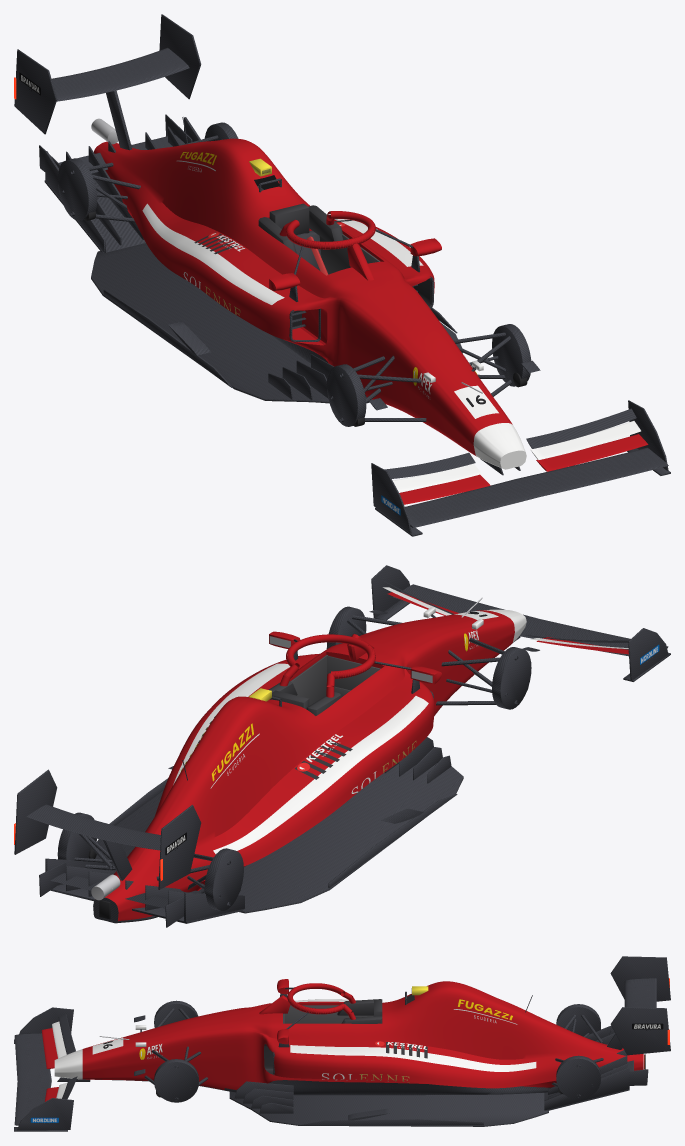
The model's file is fugazzi_sf26.glb.
The picture shows the model from 3 angles, top to bottom: view 1: azimuth 30°, elevation 25°; view 2: azimuth 150°, elevation 25°; view 3: azimuth 270°, elevation 25°; orthographic projection. The views are drawn at different scales.
Parts seen in each view (by area): view 1: fugazzi_sf26; view 2: fugazzi_sf26; view 3: fugazzi_sf26.
Part boxes in pixels (bbox=[...]): fugazzi_sf26: bbox=[14, 14, 670, 536]; fugazzi_sf26: bbox=[14, 565, 670, 927]; fugazzi_sf26: bbox=[14, 956, 670, 1131].
Bounding box in the file's own units: 1.82 × 1 × 5.56.
19 materials, 3 textured.
